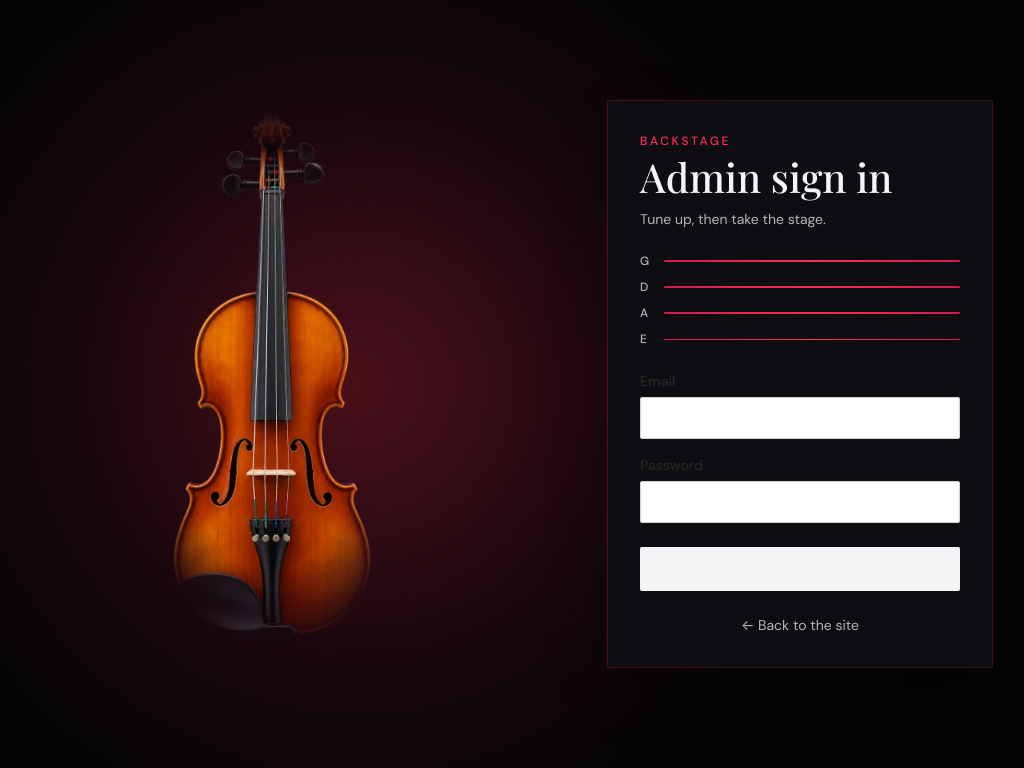
LoginPage › shows the server message when sign-in fails
Type "owner@example.com" into the field labelled "Email". click: (800, 418)
box: [640, 397, 960, 439]
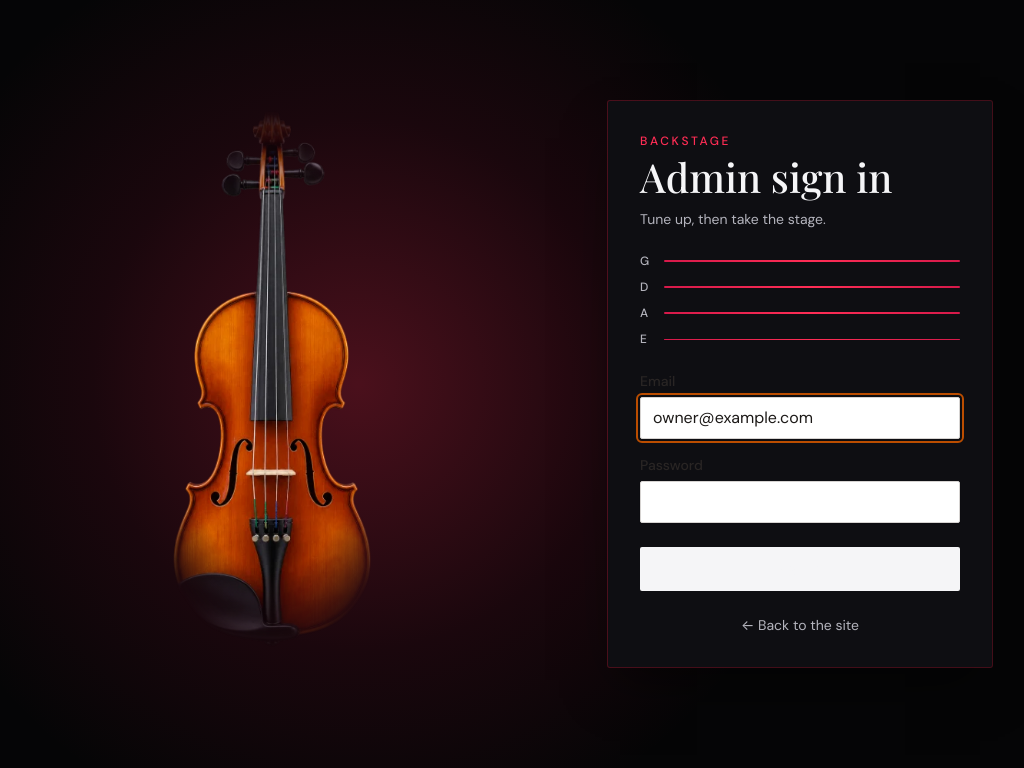
Type "wrong password" into the password field labelled "Password". click: (800, 502)
box: [640, 481, 960, 523]
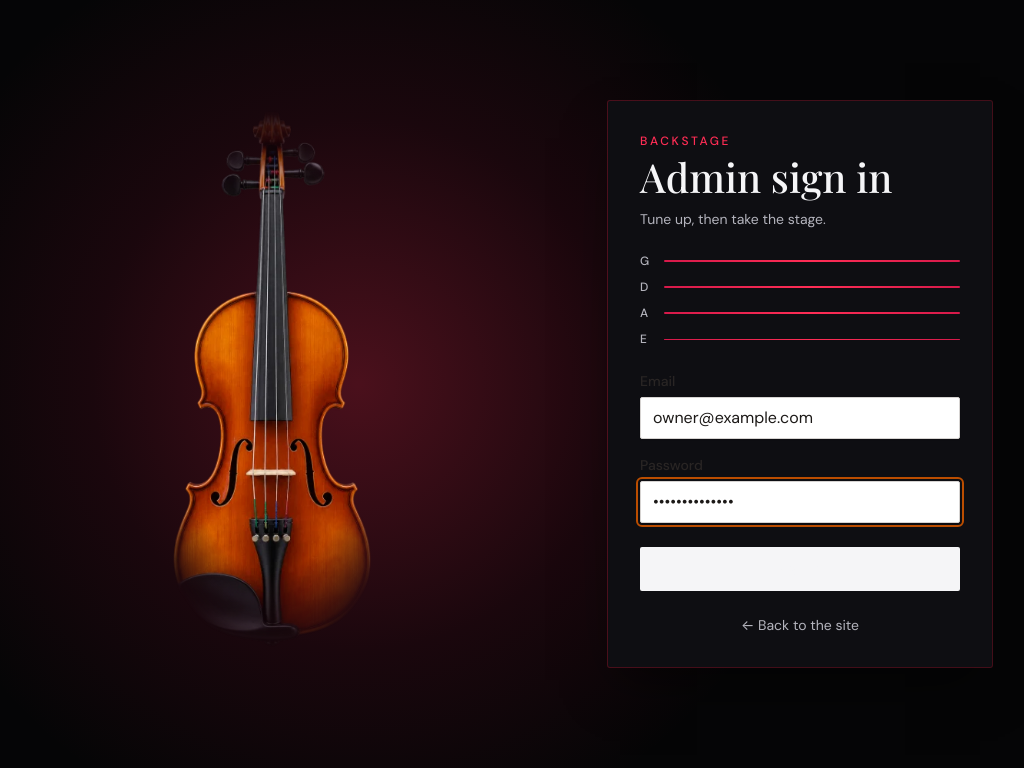
Click the button "Sign in". click: (800, 569)
box: [640, 547, 960, 591]
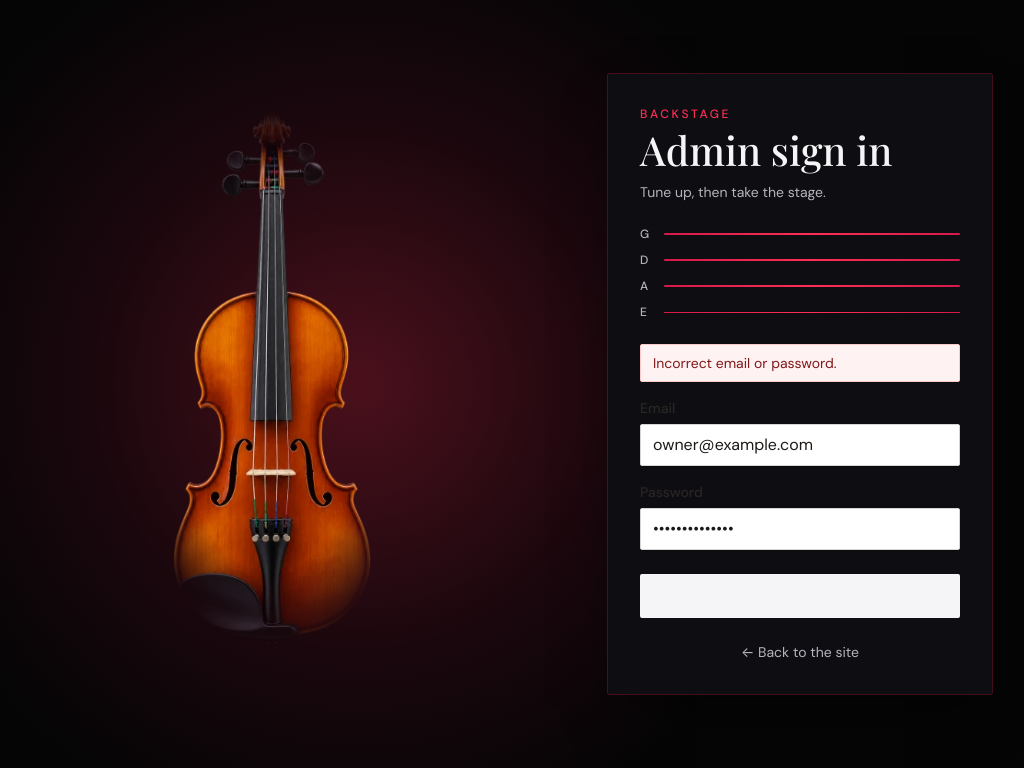
Check: the message reads "Incorrect email or password.", box [653, 354, 836, 372]
